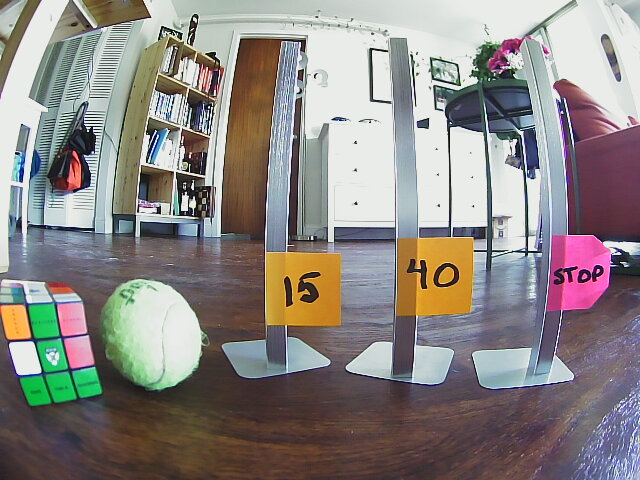15: (266, 254, 340, 323)
40: (399, 240, 470, 314)
ball: (101, 278, 203, 391)
cube: (1, 278, 99, 398)
stop: (552, 243, 607, 315)
